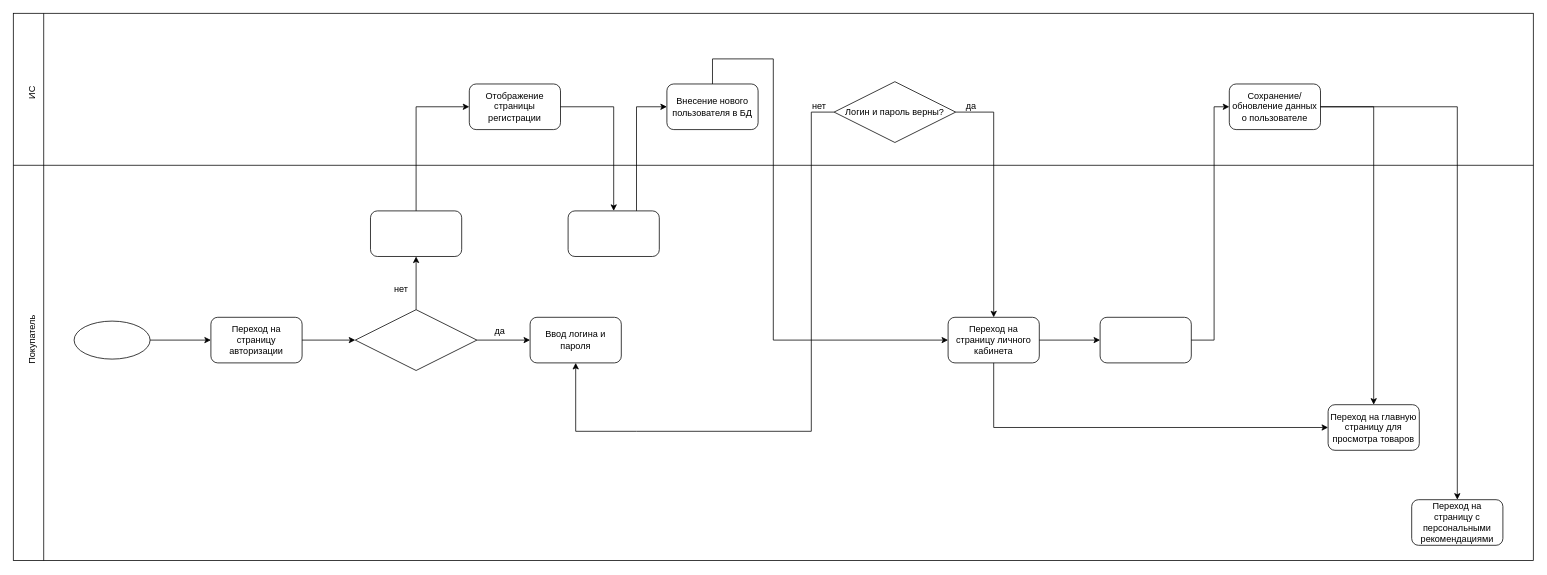
Some shapes in this 1547 by 575 pixel diagram are drawn without their labels. The shapes that lost their labels are listed below. From the top down, each one's box as (x1, y1, x2, y2) in pixels, then its label:
(370, 210, 462, 256): Переход на страницу регистрации
(567, 210, 659, 256): Заполнение полей
(73, 320, 150, 359): Вход на сайт
(355, 309, 477, 370): Есть аккаунт?
(1099, 317, 1191, 363): Редактирование личного профиля/внос информации
